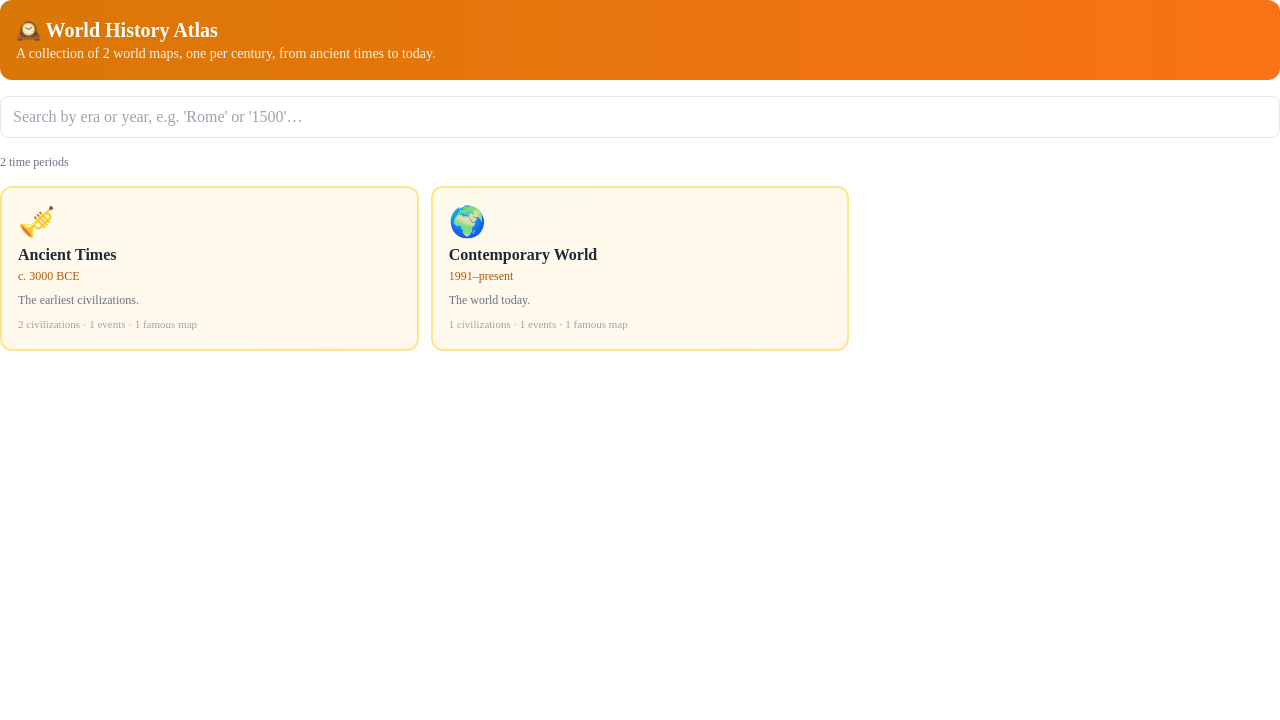
HistoricalWorldMap › lets the user jump to a different century via the in-page dropdown
The image size is (1280, 720).
Click the text "Ancient Times" at x=67, y=254, box [18, 246, 116, 263]
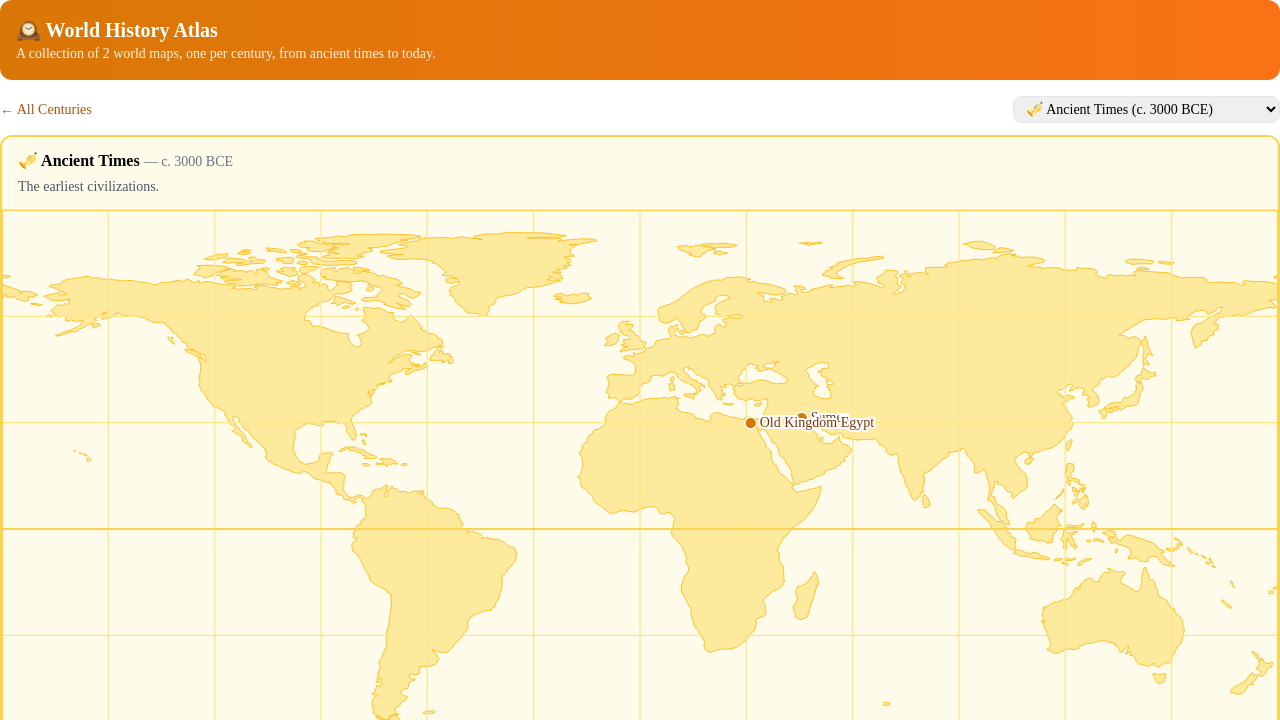
Result: the text "🎺 Ancient Times — c. 3000 BCE" is shown at [18, 152, 233, 169]
Select "🌍 Contemporary World (1991–present)" in the dropdown named "Jump to a different time period" at x=1146, y=110, box [1013, 96, 1279, 123]
(page scrolled)
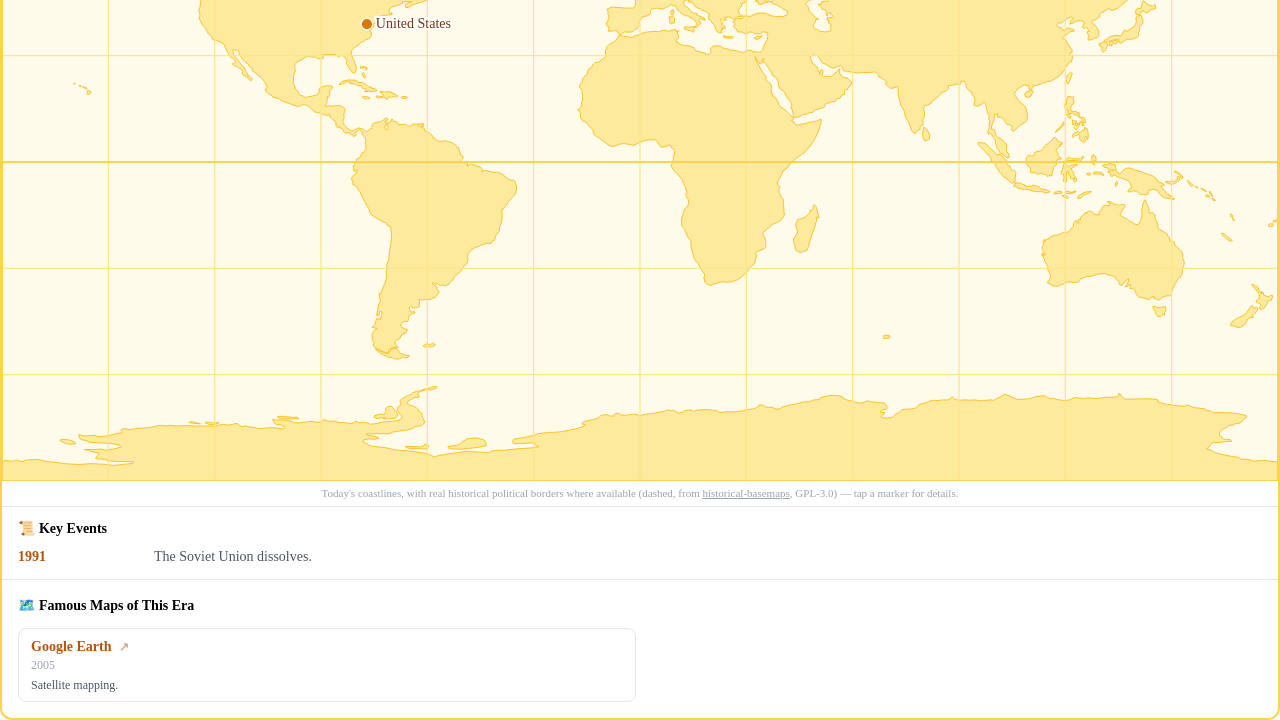
Result: the text "The Soviet Union dissolves." is shown at [154, 546, 312, 566]
